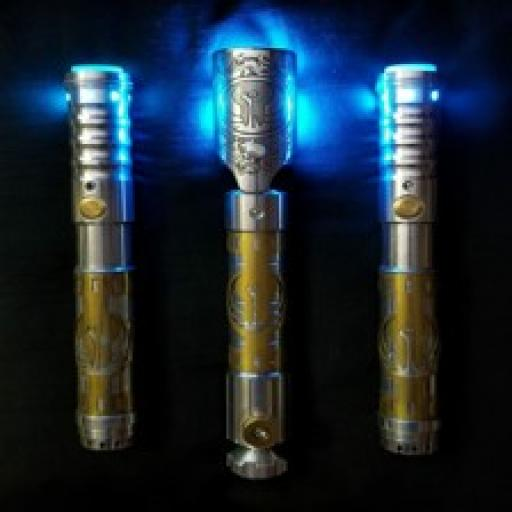lightsaber: (187, 37, 309, 481), (67, 50, 144, 456), (373, 58, 448, 457)
